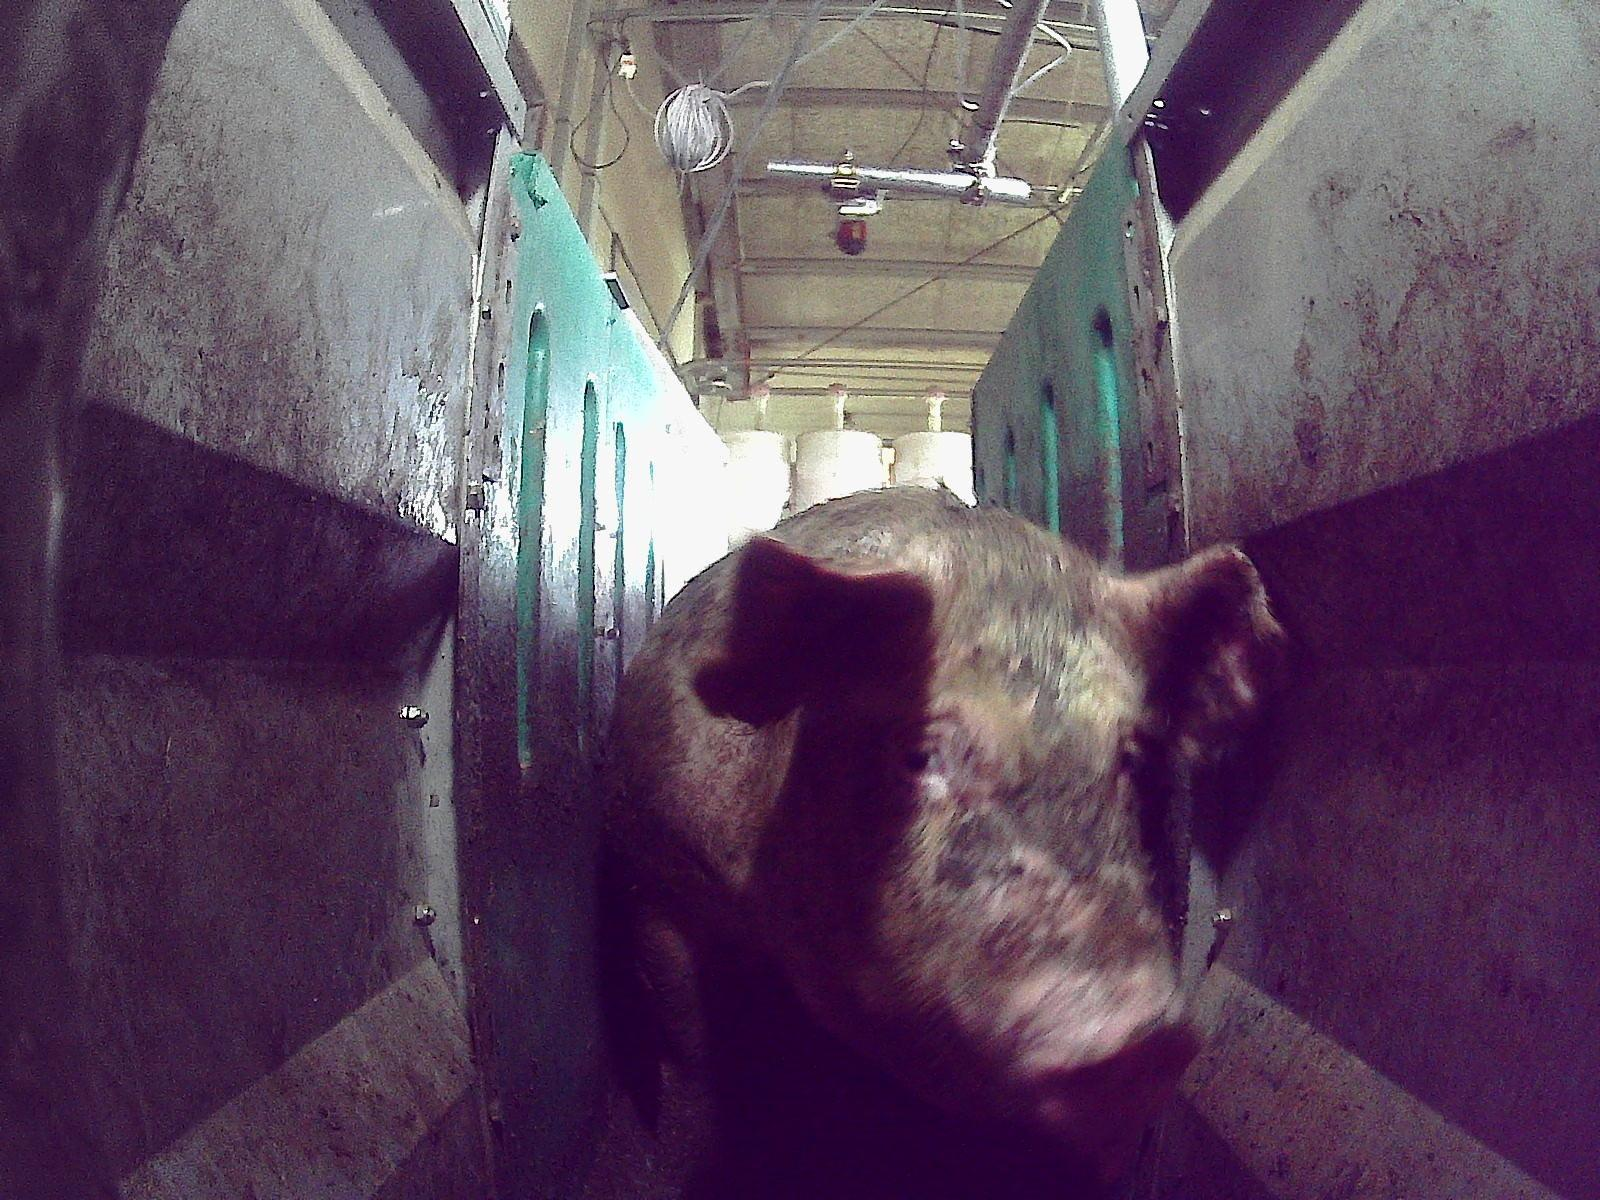Face: (754, 544, 1200, 1145)
